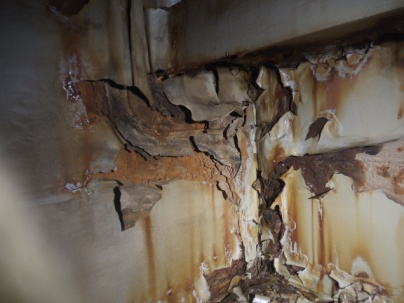corrosion: (51, 69, 212, 196), (203, 158, 297, 299), (196, 63, 304, 153), (202, 261, 392, 301), (296, 144, 404, 197), (304, 54, 376, 130), (170, 204, 221, 301), (122, 219, 166, 298), (299, 210, 347, 264)
